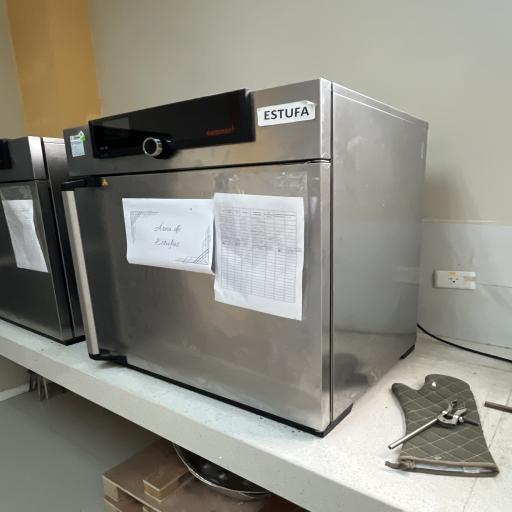Estufa_Memmert: (55, 72, 445, 447)
